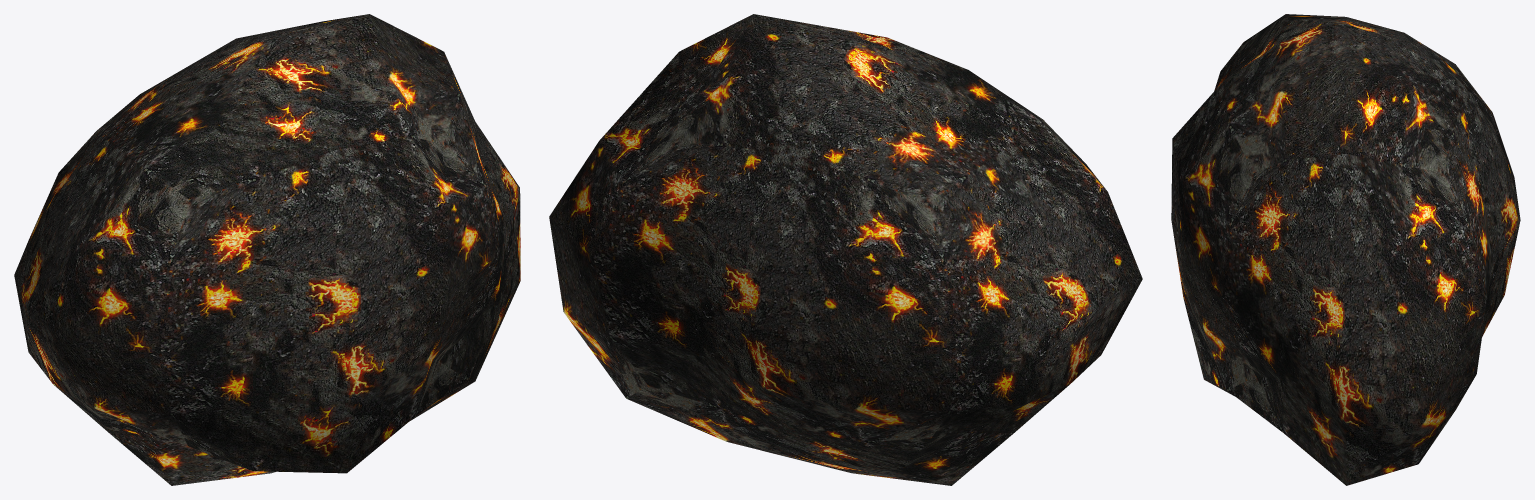
The model's file is asteroid_moltenrock_radial_s02_l0.fbx.
The picture shows the model from 3 angles, left to right: view 1: azimuth 30°, elevation 25°; view 2: azimuth 150°, elevation 25°; view 3: azimuth 270°, elevation 25°; orthographic projection. The views are drawn at different scales.
Parts seen in each view (by area): view 1: mesh_node; view 2: mesh_node; view 3: mesh_node.
Part boxes in pixels (x1,y1,x2,y2): mesh_node: (14, 14, 520, 485); mesh_node: (549, 14, 1142, 485); mesh_node: (1171, 14, 1520, 485).
Bounding box in the file's own units: 6.94 × 5.67 × 4.37.
1 material, 1 textured.
